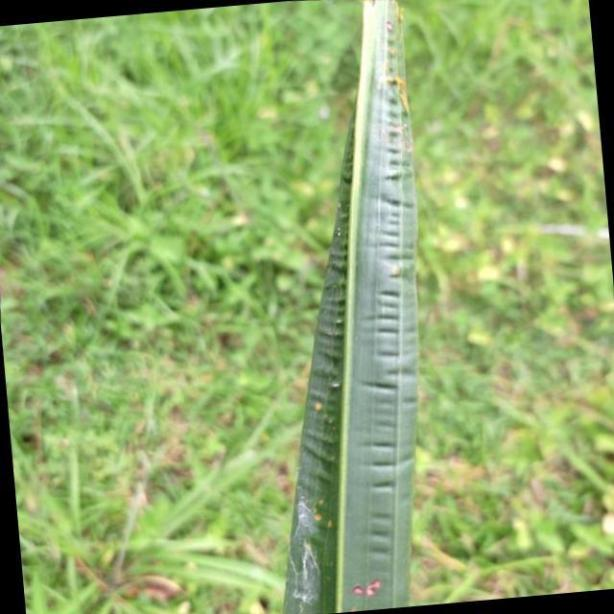Boron: (284, 0, 413, 614)
